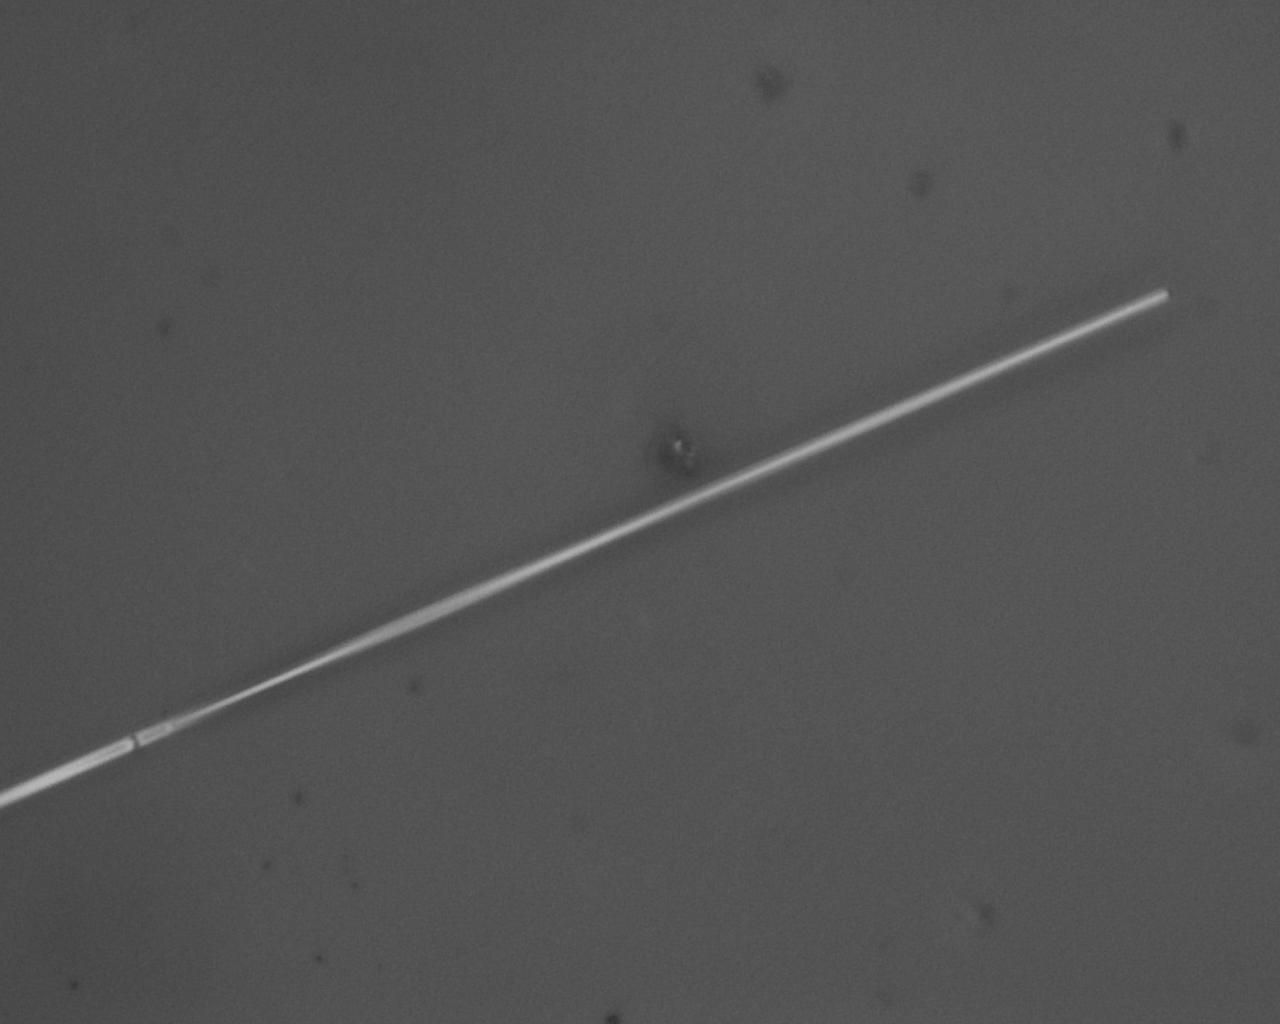fiber: (0, 631, 652, 847), (652, 0, 993, 338), (0, 36, 652, 176)
